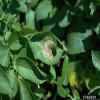Potato leaf early blight: (27, 30, 65, 65), (16, 55, 48, 84), (7, 29, 27, 51), (19, 24, 36, 35)
